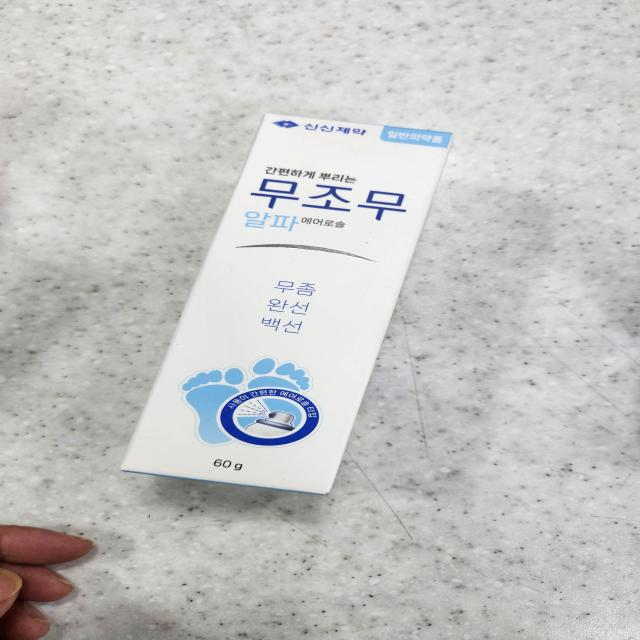box: (122, 117, 451, 492)
